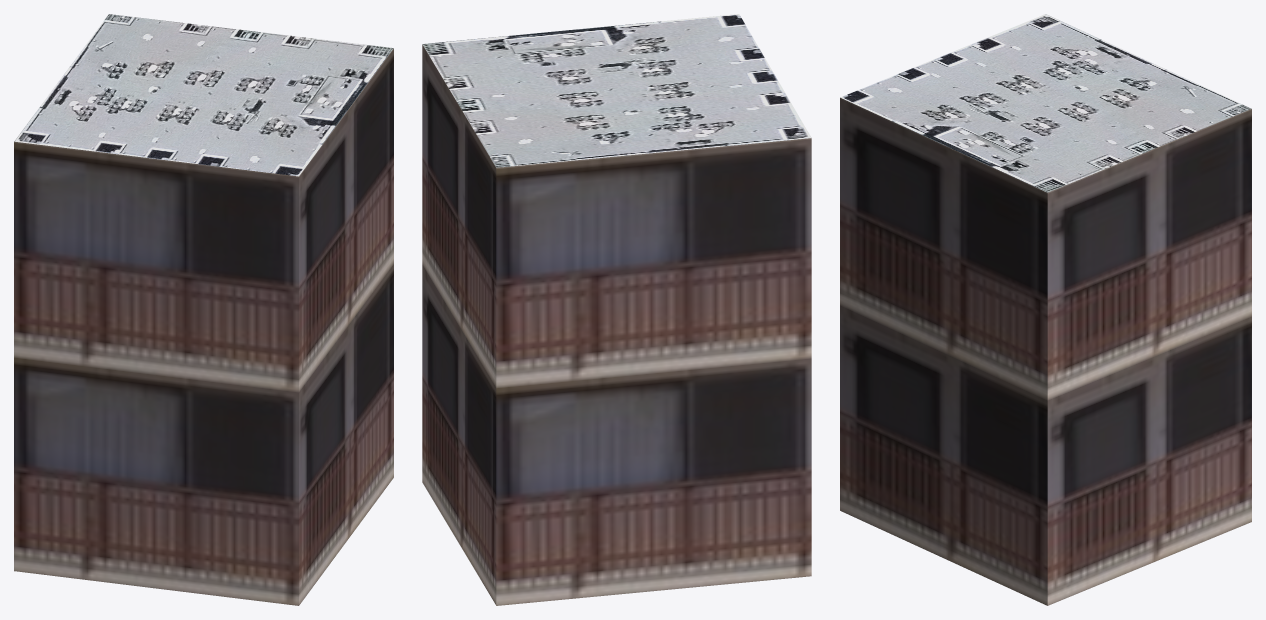
Rendered from ResTex__1690.fbx.
3 views of the same model, side by side, from view 1: azimuth 30°, elevation 25°; view 2: azimuth 150°, elevation 25°; view 3: azimuth 270°, elevation 25° (orthographic). The views are drawn at different scales.
Parts seen in each view (by area): view 1: CityEngineMaterial_6_m, CityEngineMaterial_2_m; view 2: CityEngineMaterial_6_m, CityEngineMaterial_2_m; view 3: CityEngineMaterial_6_m, CityEngineMaterial_2_m.
Boxes of the visible parts, box(x1,y1,x2,y2) form: CityEngineMaterial_6_m: box(14, 48, 393, 605); CityEngineMaterial_2_m: box(14, 14, 393, 176); CityEngineMaterial_6_m: box(422, 44, 811, 605); CityEngineMaterial_2_m: box(422, 14, 811, 167); CityEngineMaterial_6_m: box(840, 97, 1251, 605); CityEngineMaterial_2_m: box(840, 14, 1251, 192).
Bounding box in the file's own units: 5.57 × 6 × 5.42.
2 materials, 2 textured.
